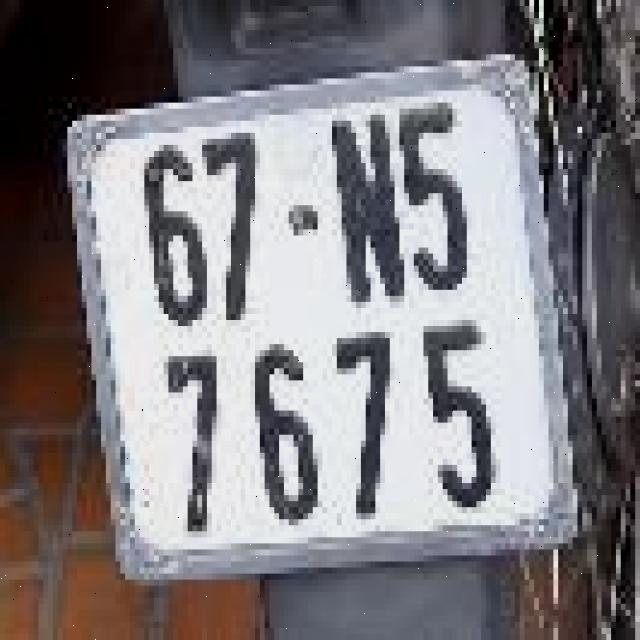5: (386, 94, 479, 298), (416, 311, 503, 516)
6: (133, 138, 217, 340), (248, 335, 325, 528)
7: (190, 126, 280, 331), (156, 334, 236, 541), (329, 323, 402, 528)
N: (325, 99, 415, 315)
